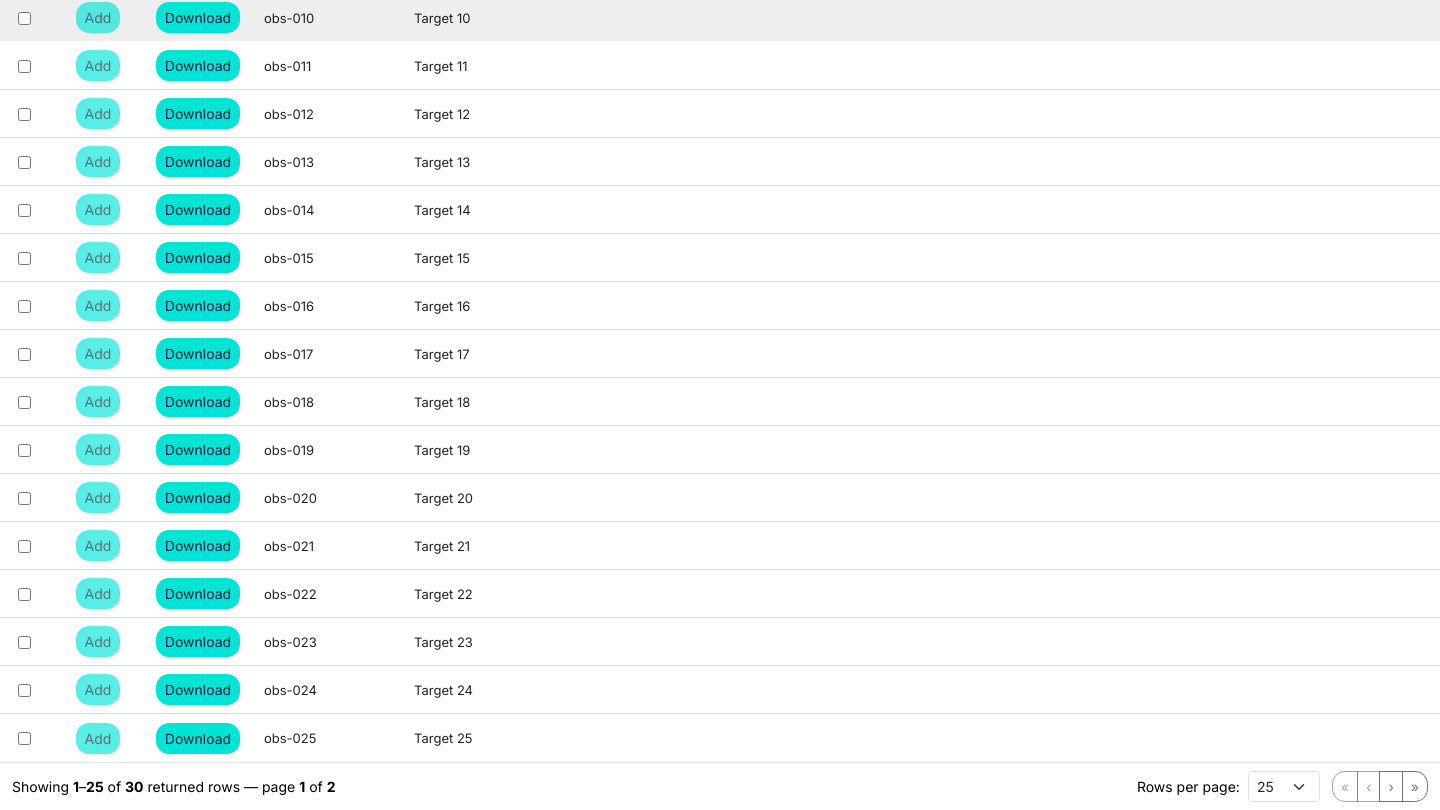
Scenario: ResultsTable pagination and selection › moves to the next result page
(page scrolled)
What coordinates should you click on to do the following:
click the button named "next page"
I would click on:
 (1391, 786)
Its box is [1380,771,1403,802].
(page scrolled)
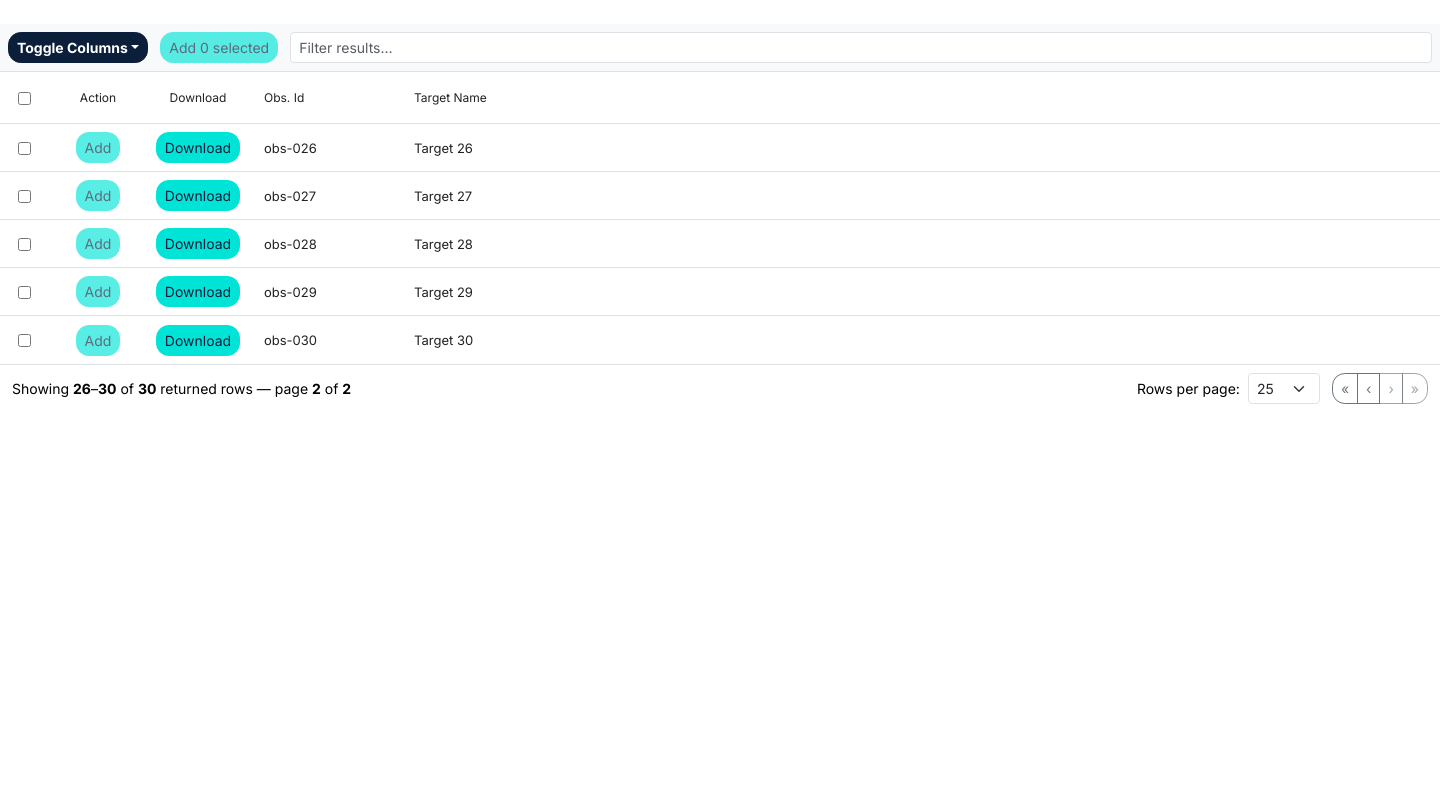
Expected: the text "obs-026" is shown, [264,140,317,156]
Expected: the text "obs-030" is shown, [264,332,317,348]
Expected: the text "Showing 26–30 of 30" is shown, [12,380,156,397]
